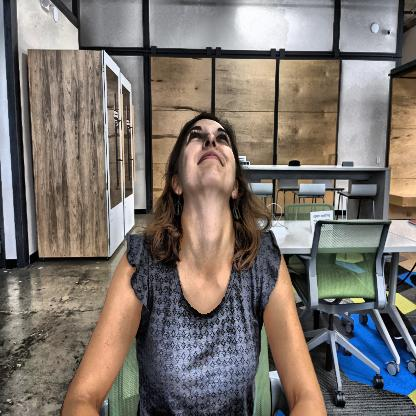not_wear: (177, 112, 237, 206)
